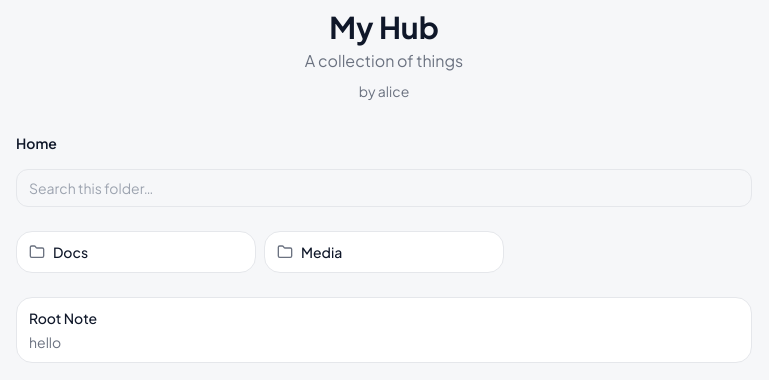
Test case: HubViewer › clicking a folder shows its children
Click the button "Docs".
click(136, 252)  # box [16,231,256,273]
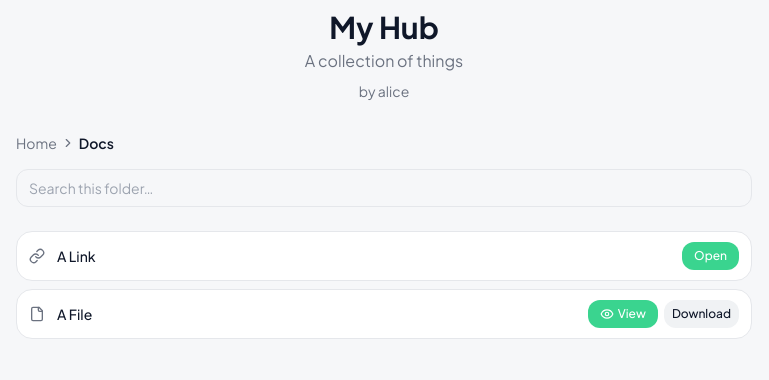
Expected: the text "A Link" is shown, [57,247,96,265]
Expected: the text "A File" is shown, [57,305,92,323]
Expected: the text "Root Note" is gone
